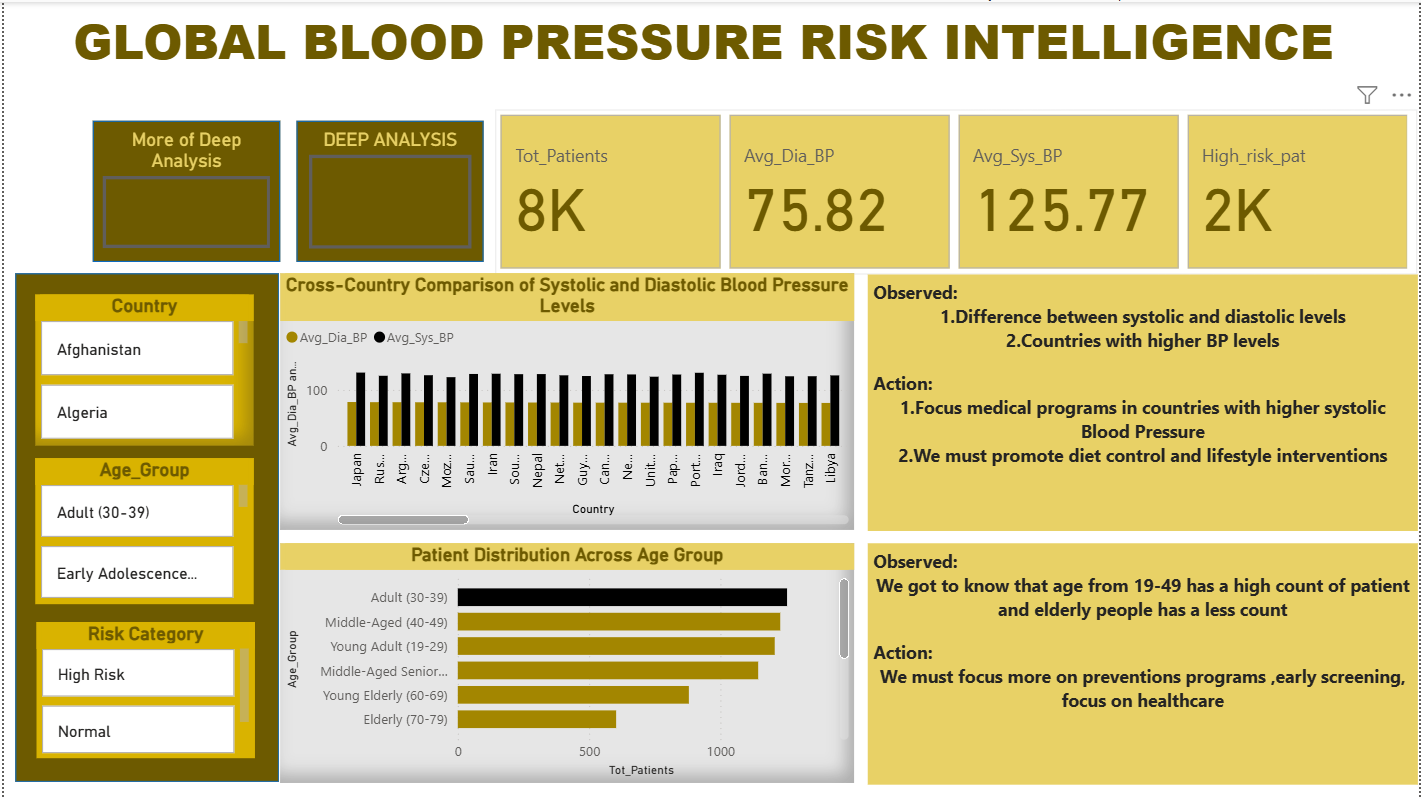

The page's visual inventory and layout, read from the dashboard file:
{"tool":"powerbi","page":{"name":"Global BP","canvas":[1280,720],"ordinal":0},"visuals":[{"type":"textbox","box":[10.1,0,1259.3,77.6],"z":0},{"type":"cardVisual","fields":{"Data":["blood_pressure_global_dataset.Tot_Patients","blood_pressure_global_dataset.Avg_Dia_BP","blood_pressure_global_dataset.Avg_Sys_BP","blood_pressure_global_dataset.High_risk_pat"]},"box":[444.6,96.9,833.8,149.2],"z":1000},{"type":"clusteredColumnChart","fields":{"Category":["blood_pressure_global_dataset.Country"],"Y":["blood_pressure_global_dataset.Avg_Dia_BP","blood_pressure_global_dataset.Avg_Sys_BP"]},"box":[249.3,245.9,519.3,232.1],"z":2000},{"type":"columnChart","fields":{"Category":["blood_pressure_global_dataset.Risk Category"],"Y":["blood_pressure_global_dataset.Tot_Patients"]},"box":[778.9,245.9,500.4,232.1],"z":3000},{"type":"barChart","fields":{"Category":["blood_pressure_global_dataset.Age_Group"],"Y":["blood_pressure_global_dataset.Tot_Patients"]},"box":[249.3,490.1,519.3,216.7],"z":4000},{"type":"lineChart","fields":{"Category":["blood_pressure_global_dataset.Age_Group"],"Y":["blood_pressure_global_dataset.Avg_Sys_BP"]},"box":[778.6,489.8,500.5,216],"z":5000},{"type":"shape","box":[10.1,96.3,238.6,609.5],"z":6000},{"type":"advancedSlicerVisual","fields":{"Values":["blood_pressure_global_dataset.Country"]},"box":[29.9,113.4,196.8,186.1],"z":7000},{"type":"advancedSlicerVisual","fields":{"Values":["blood_pressure_global_dataset.Age_Group"]},"box":[29.9,308,196.8,181.8],"z":8000},{"type":"advancedSlicerVisual","fields":{"Values":["blood_pressure_global_dataset.Risk Category"]},"box":[29.9,511.2,196.8,173.3],"z":9000},{"type":"shape","box":[264.6,107.7,169.2,127.7],"z":10000},{"type":"actionButton","title":"DEEP ANALYSIS","box":[298.9,143.3,100,73.3],"z":11000}]}

Visuals, with their boxes in screenshot pixels (x1, y1, x2, y2), scaled from the page's 1280x720 canvas onto the 1421x797 screenshot:
textbox: region(11, 0, 1409, 86)
cardVisual - blood_pressure_global_dataset.Tot_Patients x blood_pressure_global_dataset.Avg_Dia_BP: region(494, 107, 1419, 272)
clusteredColumnChart - blood_pressure_global_dataset.Country x blood_pressure_global_dataset.Avg_Dia_BP: region(277, 272, 853, 529)
columnChart - blood_pressure_global_dataset.Risk Category x blood_pressure_global_dataset.Tot_Patients: region(865, 272, 1420, 529)
barChart - blood_pressure_global_dataset.Age_Group x blood_pressure_global_dataset.Tot_Patients: region(277, 543, 853, 782)
lineChart - blood_pressure_global_dataset.Age_Group x blood_pressure_global_dataset.Avg_Sys_BP: region(864, 542, 1420, 781)
shape: region(11, 107, 276, 781)
advancedSlicerVisual - blood_pressure_global_dataset.Country: region(33, 126, 252, 332)
advancedSlicerVisual - blood_pressure_global_dataset.Age_Group: region(33, 341, 252, 542)
advancedSlicerVisual - blood_pressure_global_dataset.Risk Category: region(33, 566, 252, 758)
shape: region(294, 119, 482, 261)
"DEEP ANALYSIS" actionButton: region(332, 159, 443, 240)
